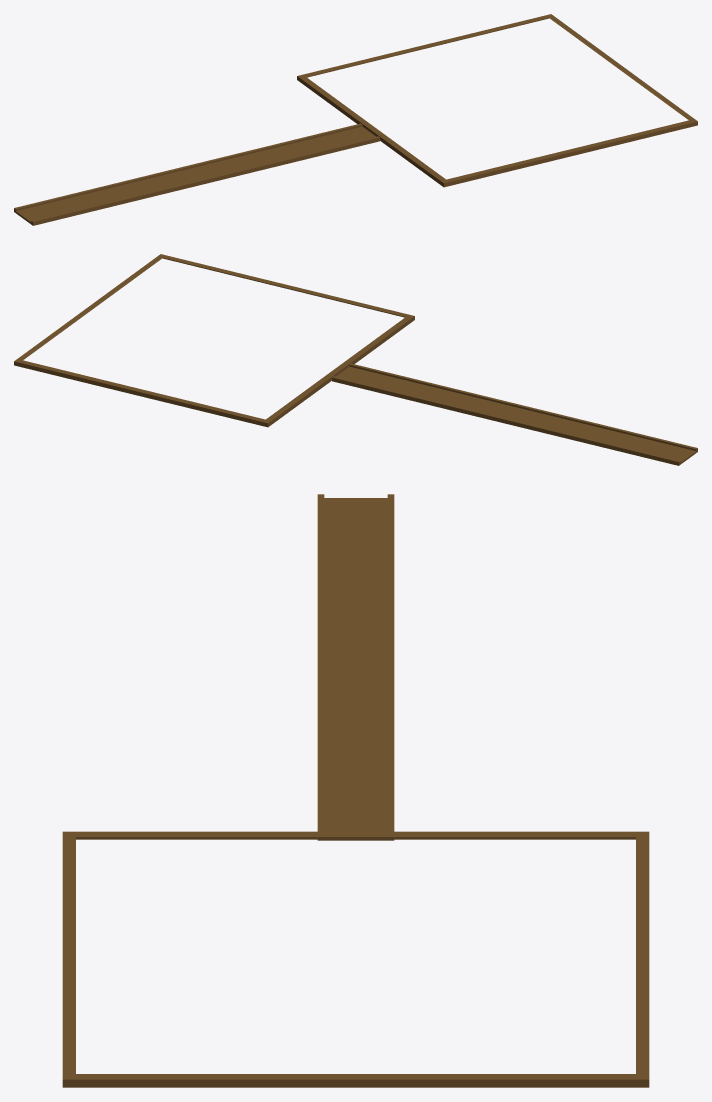
The model's file is floor.gltf.
The picture shows the model from 3 angles, top to bottom: view 1: azimuth 30°, elevation 25°; view 2: azimuth 150°, elevation 25°; view 3: azimuth 270°, elevation 25°; orthographic projection. The views are drawn at different scales.
Visible parts, largest first — view 1: Plane.028; view 2: Plane.028; view 3: Plane.028.
Boxes of the visible parts, bbox=[...] form: Plane.028: bbox=[14, 14, 697, 225]; Plane.028: bbox=[14, 254, 697, 465]; Plane.028: bbox=[62, 494, 649, 1087].
Size of the model in its own units: 161 by 1.18 by 68.15.
1 material, 1 textured.
